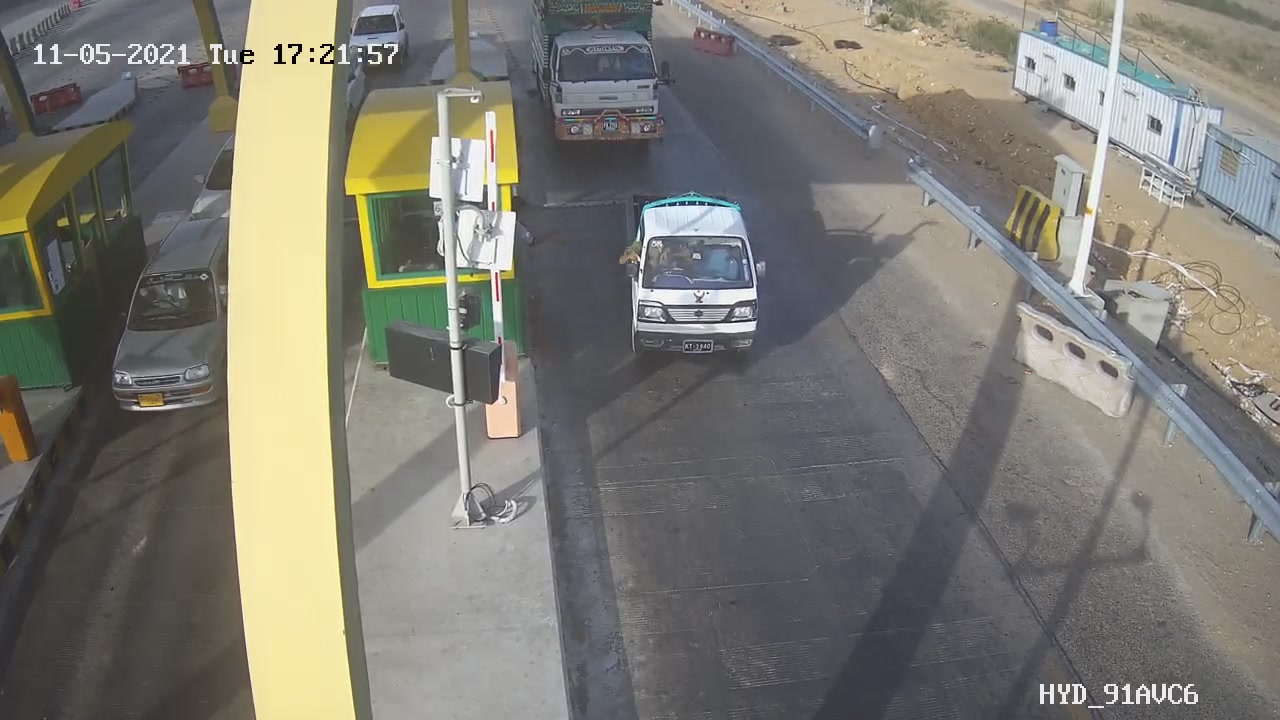F1: (604, 174, 786, 381)
